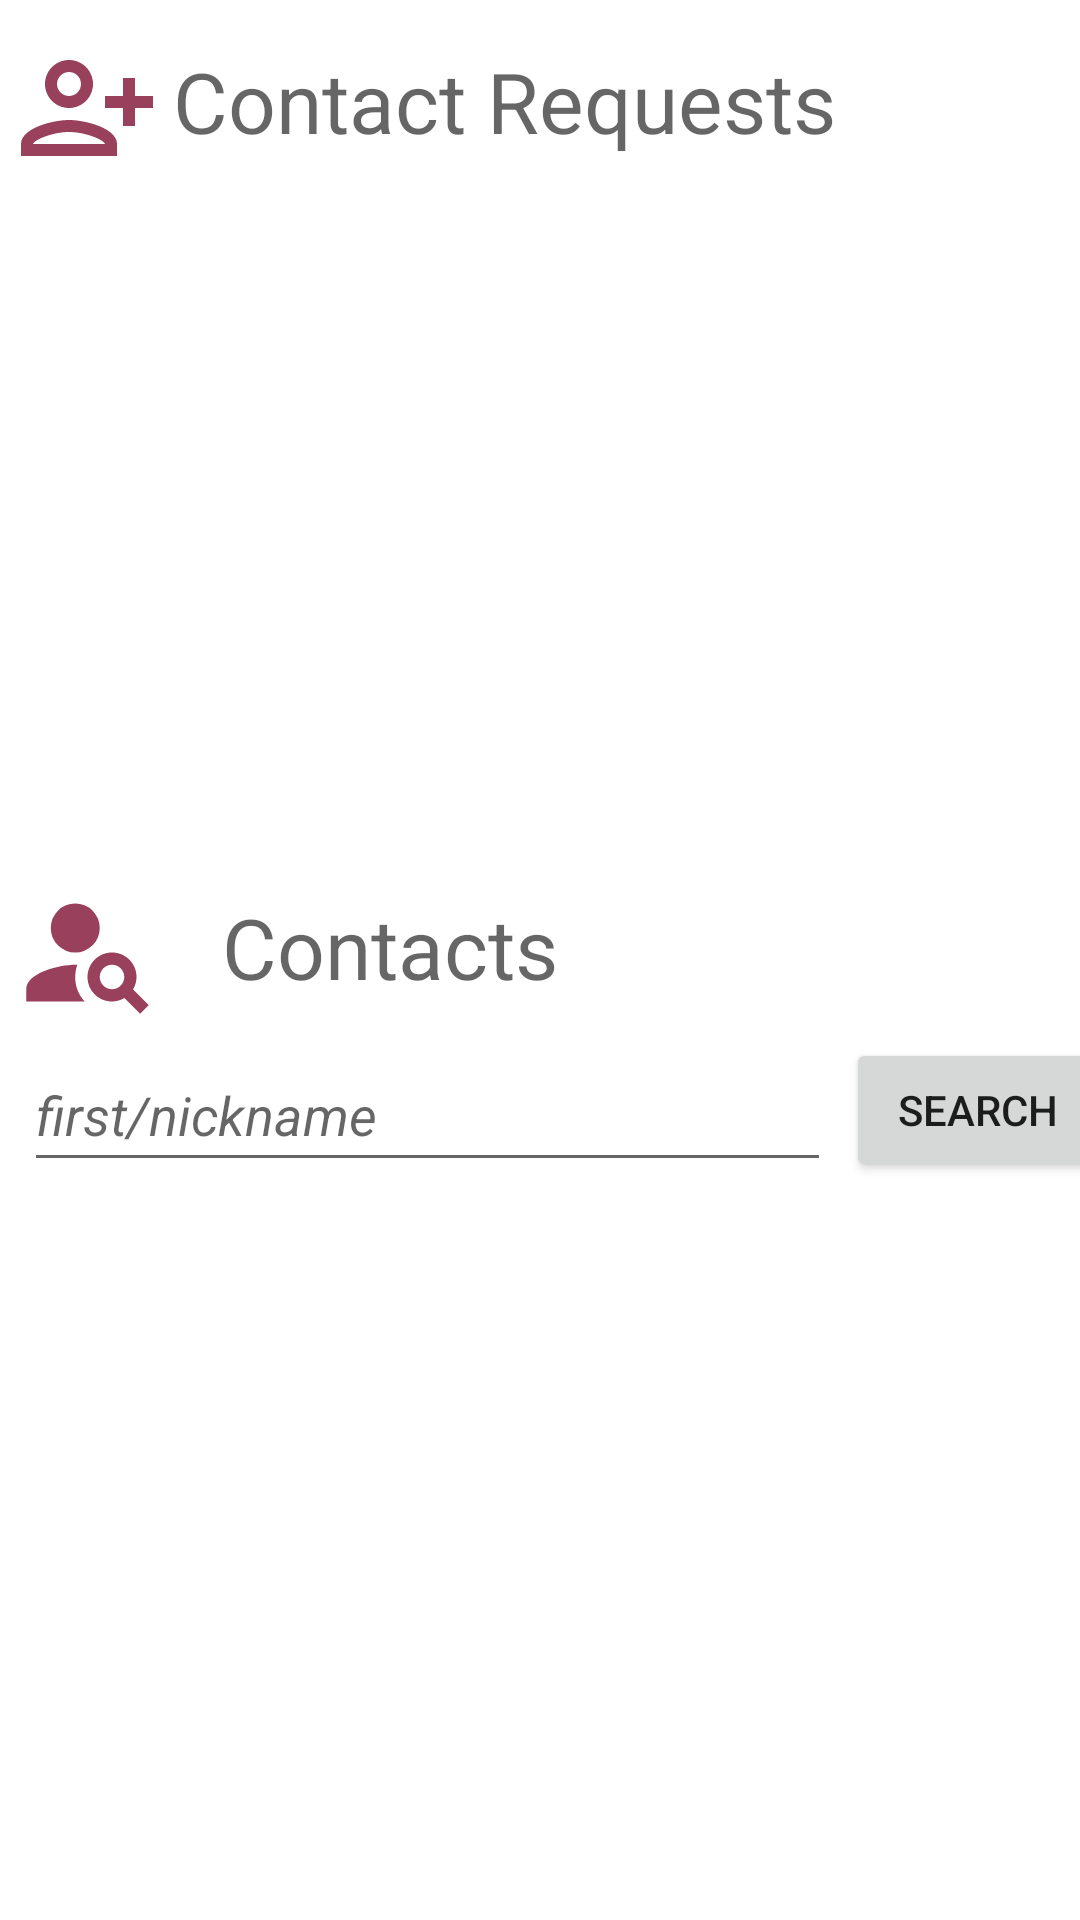

Icon click points for this 1080px×1920px phone screenshot, format point (x, y):
buttonimage newchat addperson: point (87, 108)
